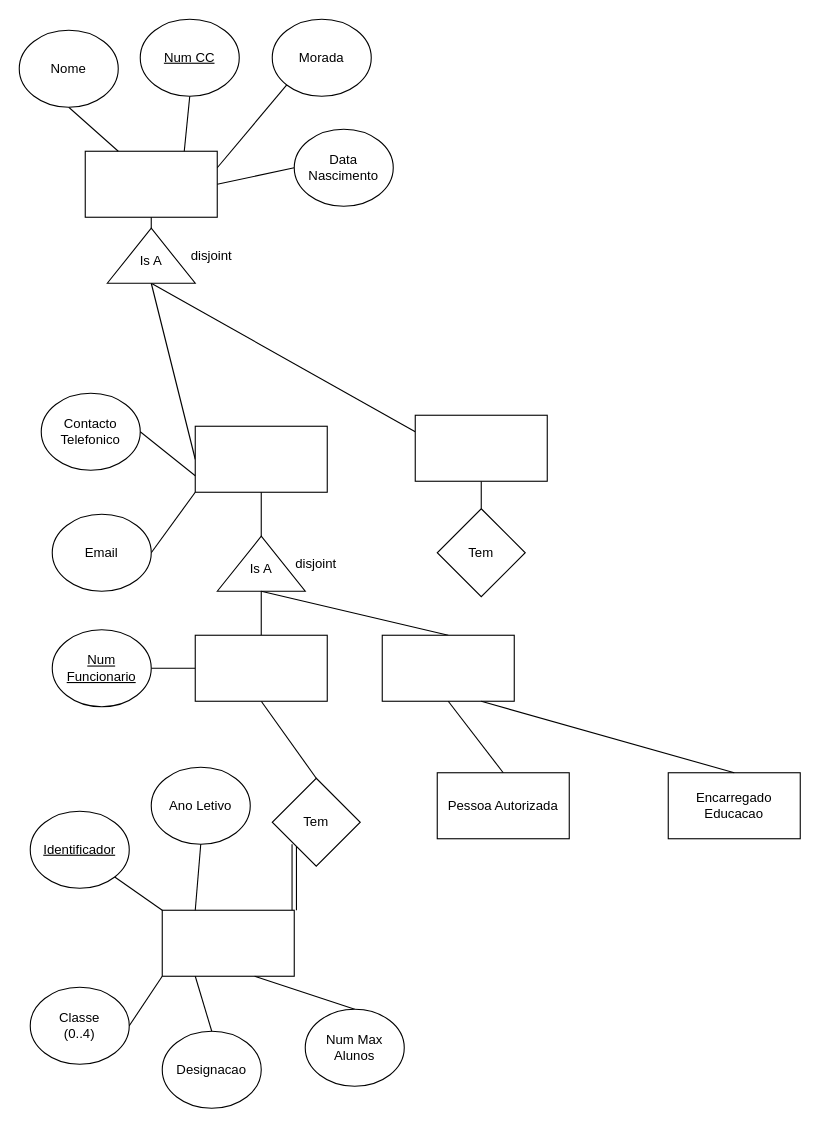
The diagram is 820 pixels wide and 1128 high, and some of its shapes have lost their labels. The shapes that lost their labels are listed below. From the top down, each one's box as (x1, y1, x2, y2) in pixels, then its label:
(84, 150, 217, 217): Pessoa
(194, 425, 327, 492): Adulto
(414, 414, 547, 481): Aluno
(194, 634, 327, 701): Professor
(381, 634, 514, 701): Autorizado
(161, 909, 294, 976): Turma
